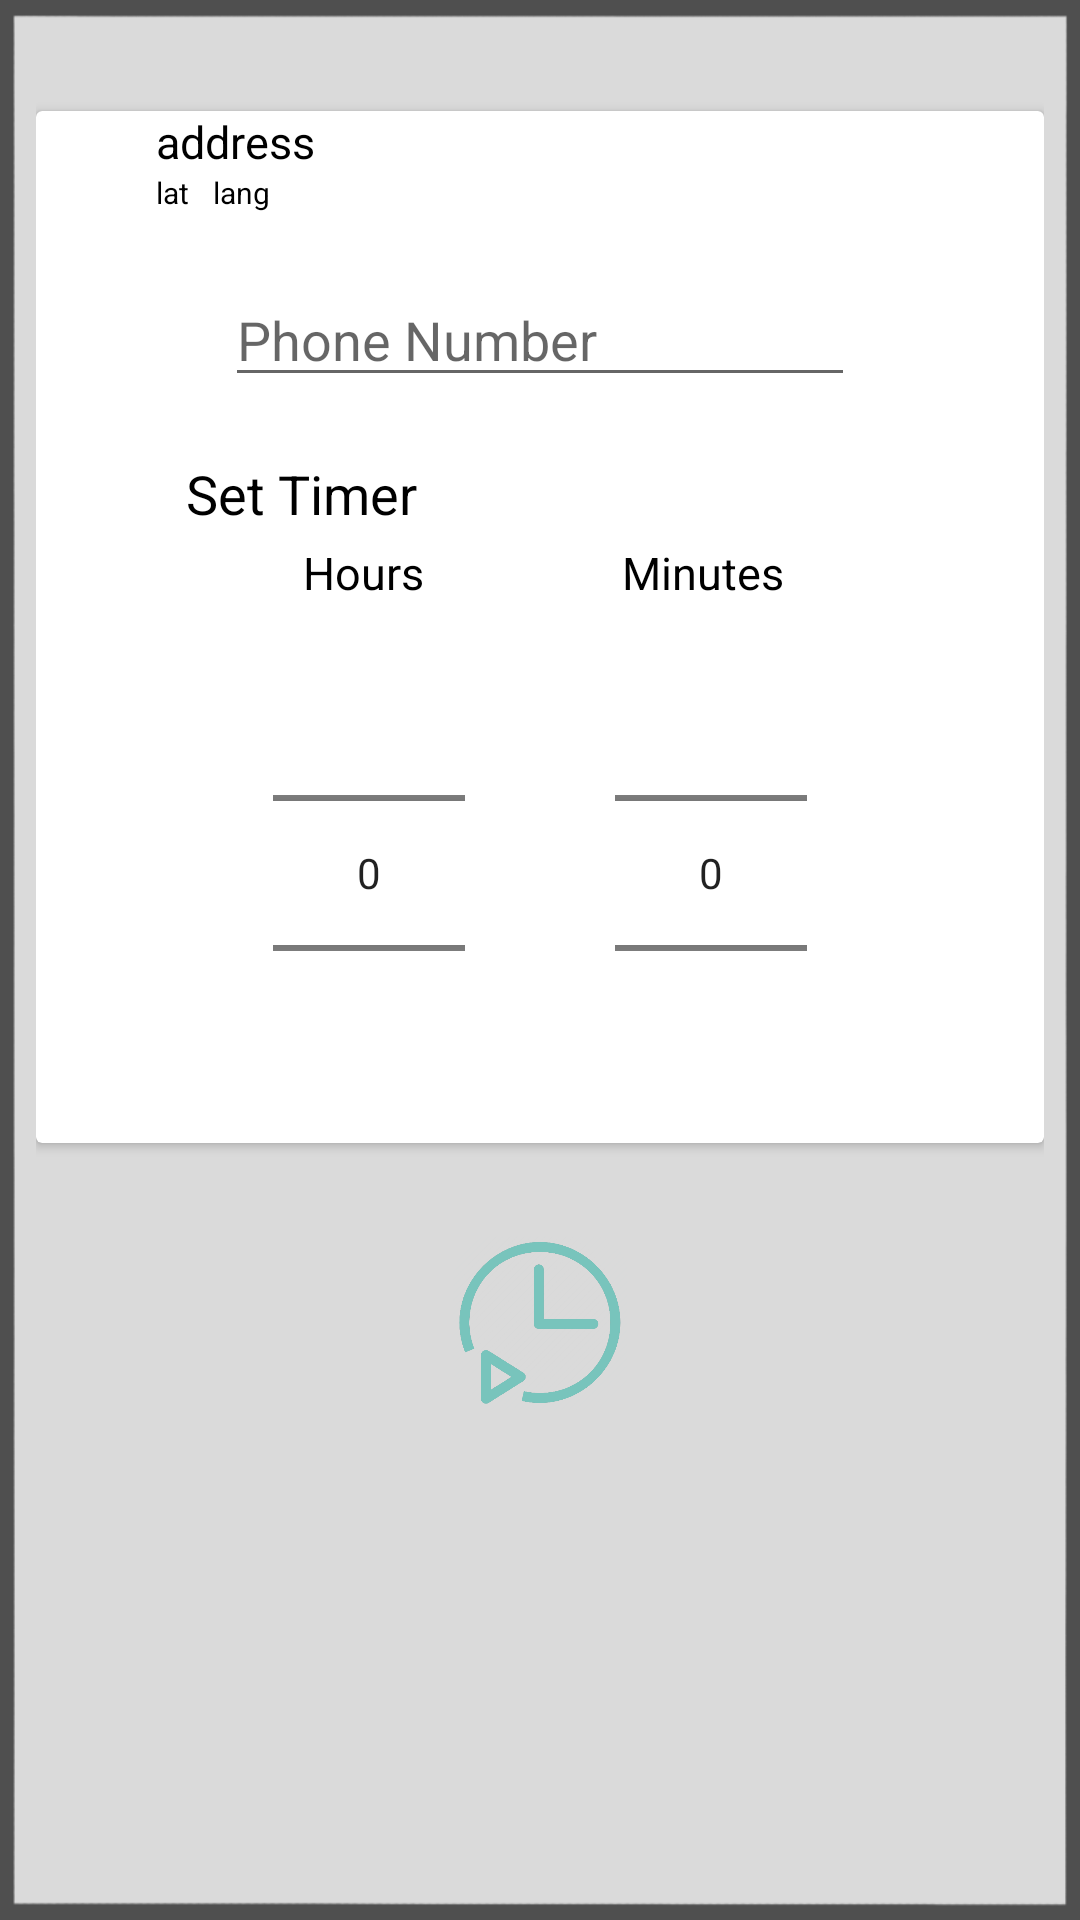

Named icons in this screenshot (1080px×1920px) and their bounding boxes, (x1, y1, x2, y2):
start: (459, 1242, 621, 1404)
